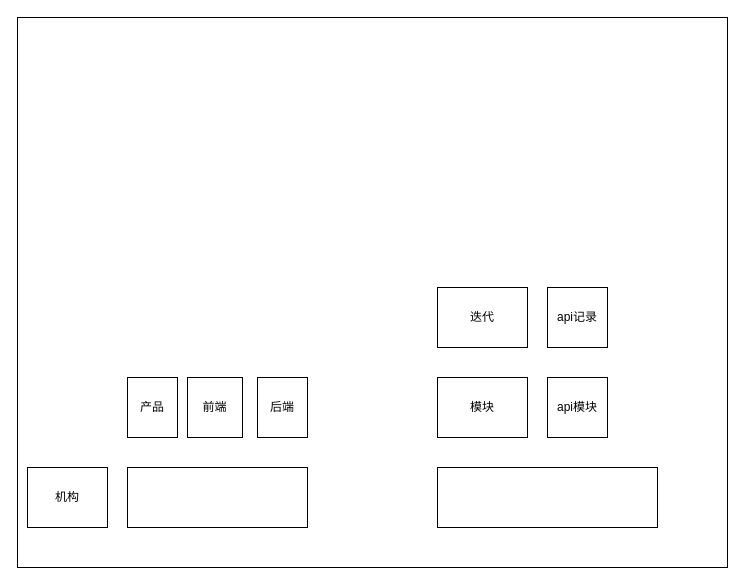
Image size: 745x585. Some labels were removed from this diagram. The box of each missing label's shape, as (x1, y1, x2, y2) in pixels:
用户: (126, 466, 308, 528)
项目: (436, 466, 658, 528)
